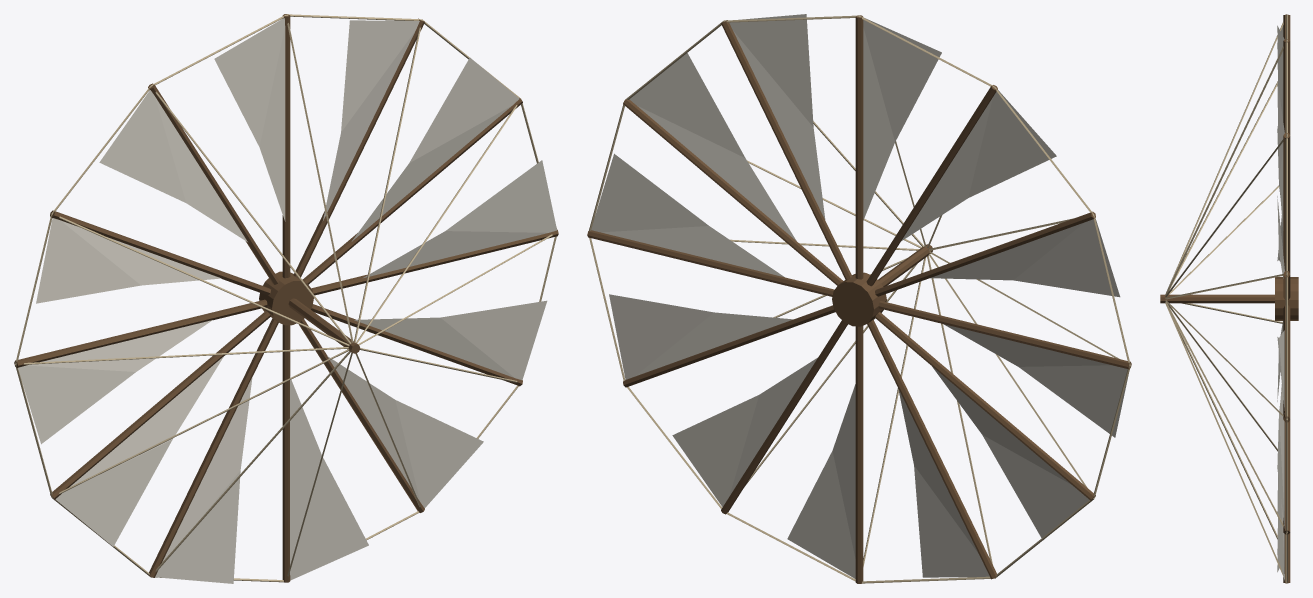
Rendered from sails.glb.
The picture shows the model from 3 angles, left to right: view 1: azimuth 30°, elevation 25°; view 2: azimuth 150°, elevation 25°; view 3: azimuth 270°, elevation 25°; orthographic projection. The views are drawn at different scales.
Parts seen in each view (by area): view 1: cloth38, wood10, wood9, wood8, wood11, wood5, wood7, wood0, wood4, wood3, wood12, wood2 (+10 smaller); view 2: cloth38, wood4, wood10, wood5, wood9, wood3, wood11, wood8, wood2, wood0, wood6, wood7 (+4 smaller); view 3: cloth38, wood1, wood4, wood0, rope17, wood2, rope24, wood13, rope18, rope23, rope25, wood5 (+12 smaller).
Boxes of the visible parts, left/top/right/bottom form: cloth38: left=18, top=18, right=556, bottom=583; wood10: left=149, top=318, right=278, bottom=577; wood9: left=50, top=311, right=270, bottom=499; wood8: left=14, top=299, right=267, bottom=367; wood11: left=282, top=324, right=290, bottom=582; wood5: left=282, top=14, right=290, bottom=278; wood7: left=50, top=210, right=270, bottom=295; wood0: left=259, top=271, right=313, bottom=325; wood4: left=293, top=18, right=424, bottom=278; wood3: left=302, top=98, right=522, bottom=284; wood12: left=299, top=319, right=424, bottom=512; wood2: left=311, top=229, right=558, bottom=295; cloth38: left=591, top=14, right=1128, bottom=578; wood4: left=721, top=20, right=852, bottom=279; wood10: left=867, top=319, right=996, bottom=579; wood5: left=855, top=15, right=863, bottom=279; wood9: left=875, top=312, right=1095, bottom=500; wood3: left=623, top=99, right=843, bottom=285; wood11: left=855, top=326, right=863, bottom=583; wood8: left=878, top=301, right=1131, bottom=369; wood2: left=587, top=230, right=834, bottom=296; wood0: left=832, top=272, right=886, bottom=326; wood6: left=866, top=85, right=997, bottom=286; wood7: left=875, top=211, right=1095, bottom=296; cloth38: left=1277, top=25, right=1284, bottom=580; wood1: left=1160, top=294, right=1274, bottom=303; wood4: left=1283, top=133, right=1290, bottom=273; wood0: left=1275, top=277, right=1298, bottom=320; rope17: left=1165, top=46, right=1283, bottom=294; wood2: left=1283, top=305, right=1290, bottom=422; rope24: left=1165, top=303, right=1283, bottom=576; wood13: left=1283, top=420, right=1290, bottom=534; rope18: left=1166, top=21, right=1283, bottom=291; rope23: left=1174, top=320, right=1277, bottom=539; rope25: left=1165, top=302, right=1283, bottom=526; wood5: left=1283, top=39, right=1290, bottom=134.
Size of the model in its own units: 7.23 by 7.23 by 1.75.
